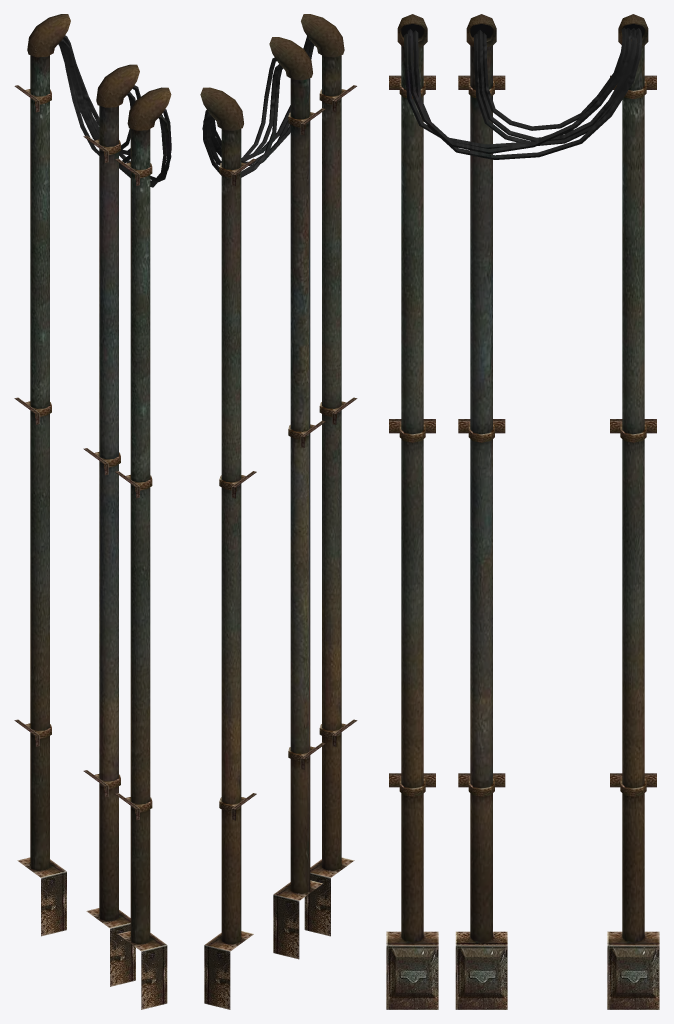
Rendered from wirepipe.glb.
3 views of the same model, side by side, from view 1: azimuth 30°, elevation 25°; view 2: azimuth 150°, elevation 25°; view 3: azimuth 270°, elevation 25° (orthographic). The views are drawn at different scales.
Parts seen in each view (by area): view 1: 0_wirepipe; view 2: 0_wirepipe; view 3: 0_wirepipe.
Part boxes in pixels (bbox=[...]): 0_wirepipe: bbox=[14, 14, 171, 1009]; 0_wirepipe: bbox=[200, 14, 357, 1009]; 0_wirepipe: bbox=[386, 14, 659, 1009].
Bounding box in the file's own units: 0.2685 × 4.42 × 1.1.
Materials: 1 (1 with a texture image).
